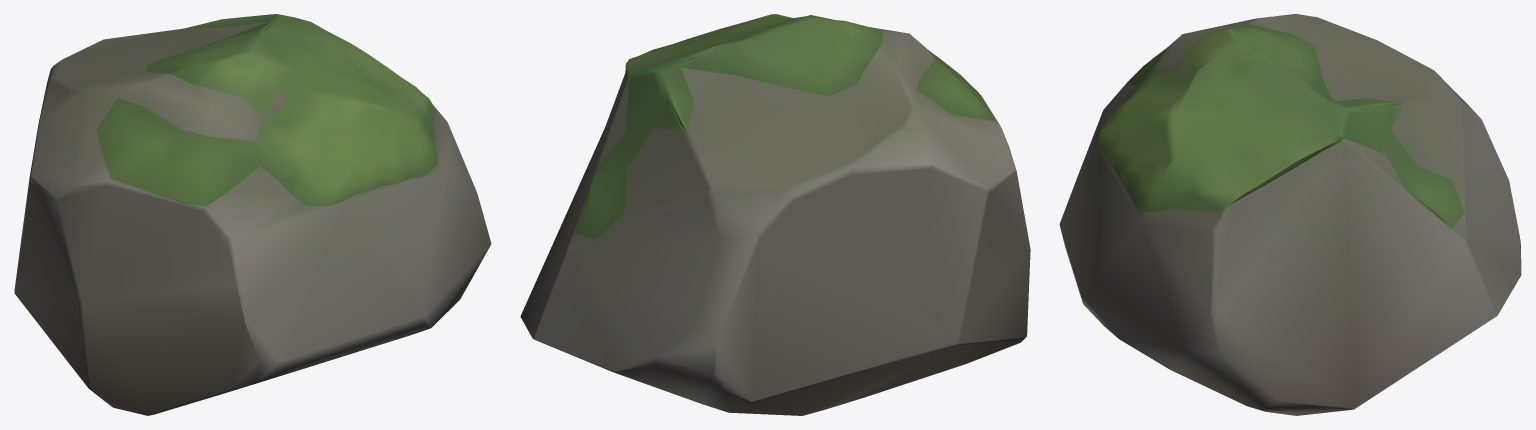
Rendered from boulder_a.glb.
3 renders of one model, left to right at view 1: azimuth 30°, elevation 25°; view 2: azimuth 150°, elevation 25°; view 3: azimuth 270°, elevation 25°, orthographic. The views are drawn at different scales.
Parts seen in each view (by area): view 1: Boulder_a; view 2: Boulder_a; view 3: Boulder_a.
Boxes of the visible parts, box(x1,y1,x2,y2) form: Boulder_a: box(14, 14, 491, 415); Boulder_a: box(520, 14, 1030, 415); Boulder_a: box(1059, 14, 1521, 415).
Size of the model in its own units: 0.92 by 0.7332 by 0.9366.
